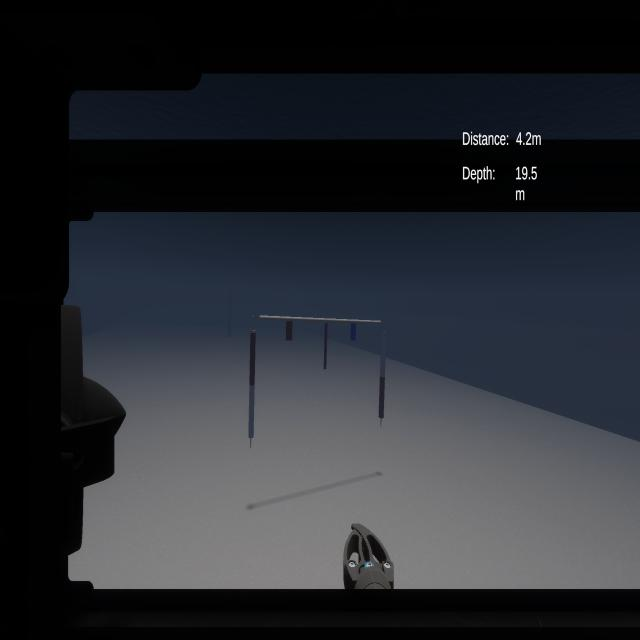Depth: (458, 162, 544, 210)
Distance: (459, 124, 543, 152)
Gate: (227, 278, 400, 457)
